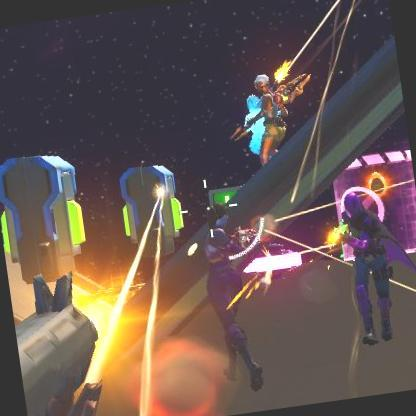person: (197, 202, 278, 394), (332, 183, 414, 348), (252, 74, 292, 166)
